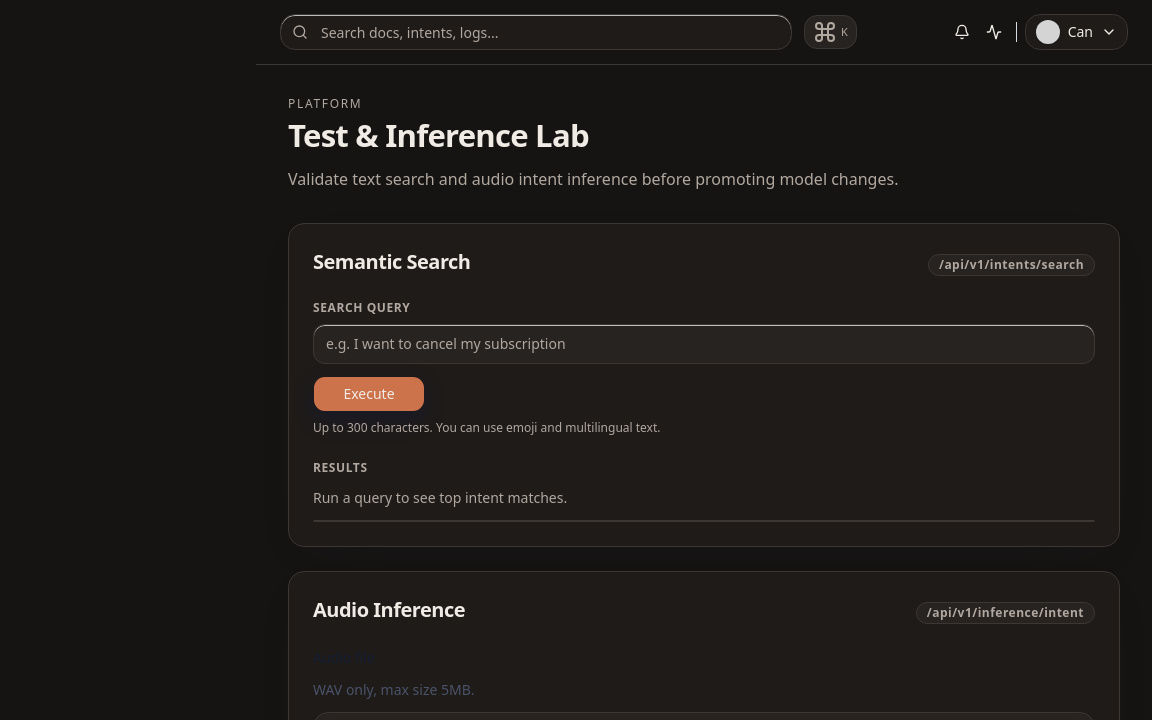
Test: TestLabPage semantic search › shows API error message when search request fails
The image size is (1152, 720).
Type "query" into the field with placeholder "e.g. I want to cancel my subscription" at (704, 344), box [313,324,1095,364]
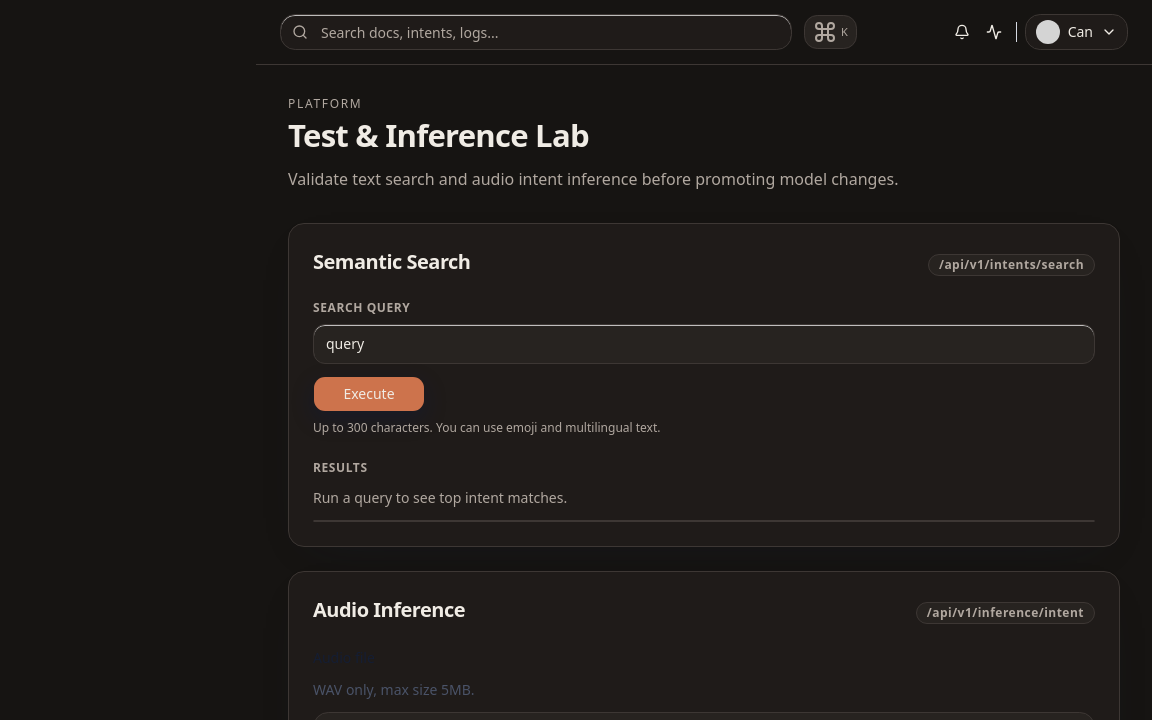
Click the button "Execute" at (369, 394), box [313,376,425,412]
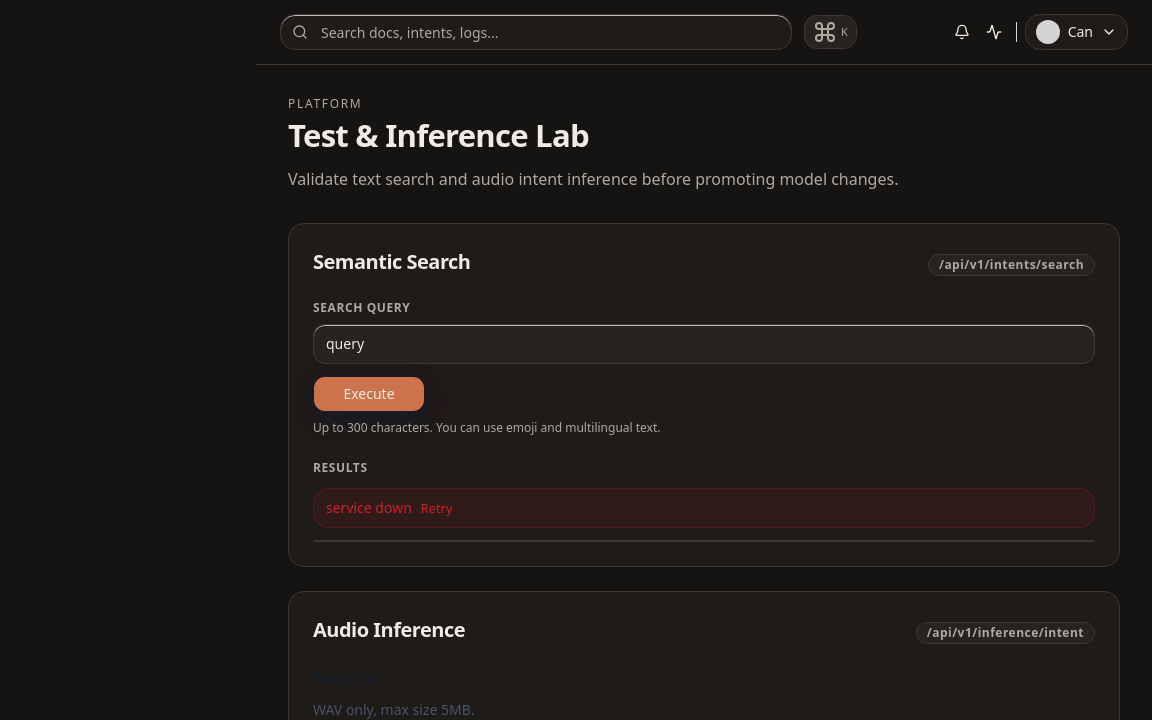
Result: the text "service down Retry" is shown at [313,488,1095,528]
